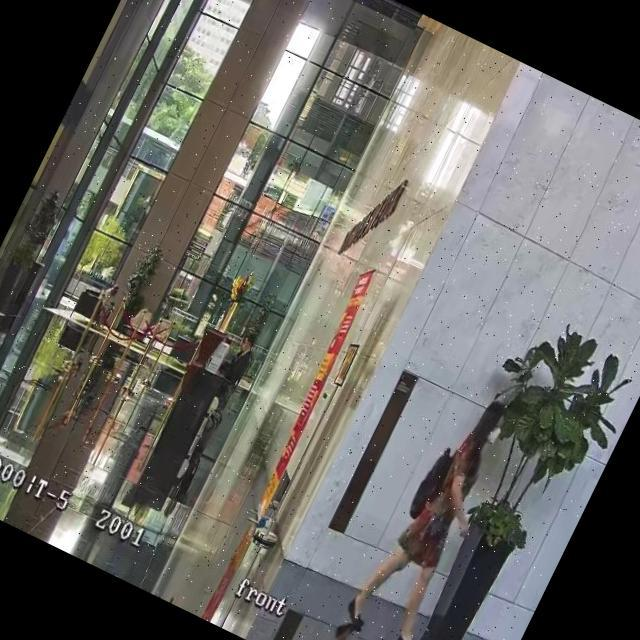person: (336, 377, 530, 640), (208, 328, 258, 397), (85, 280, 122, 332)
